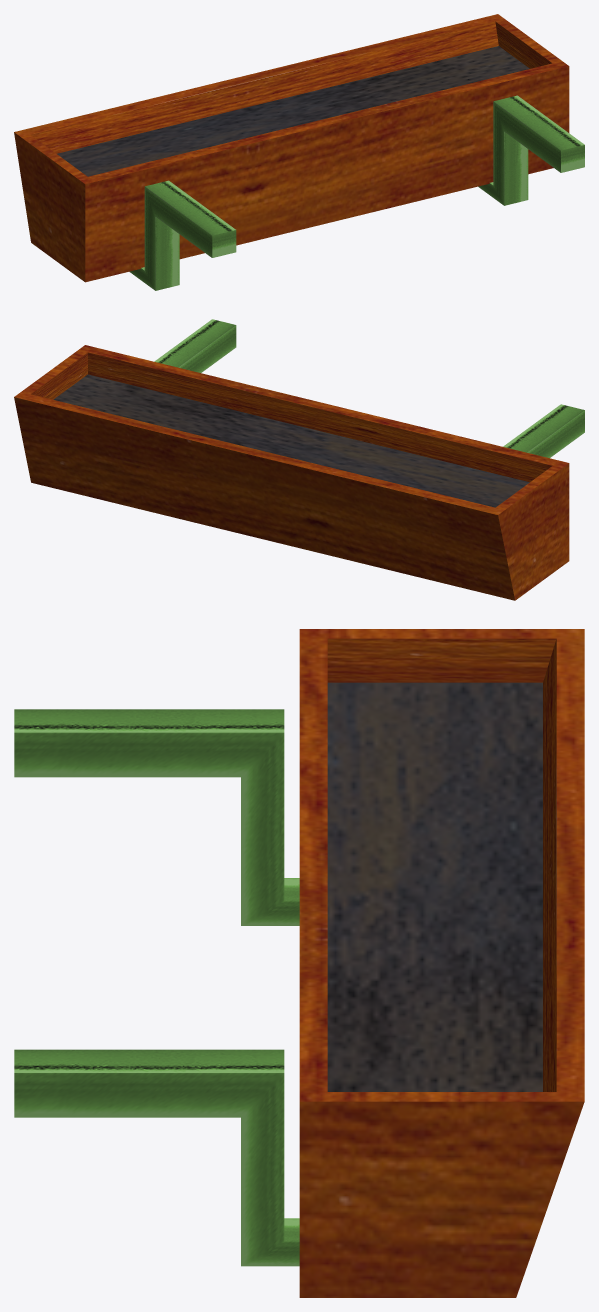
Rendered from Flower.fbx.
The picture shows the model from 3 angles, top to bottom: view 1: azimuth 30°, elevation 25°; view 2: azimuth 150°, elevation 25°; view 3: azimuth 270°, elevation 25°; orthographic projection. The views are drawn at different scales.
Visible parts, largest first — view 1: Flower; view 2: Flower; view 3: Flower.
Boxes of the visible parts, x1,y1,x2,y2 form: Flower: [14, 14, 584, 290]; Flower: [14, 319, 584, 600]; Flower: [14, 629, 584, 1297].
Size of the model in its own units: 139 by 30.03 by 70.83.
